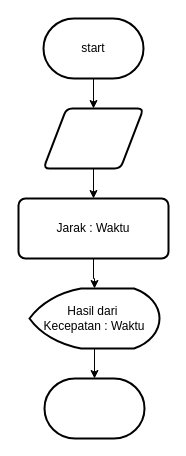
The diagram is 186 pixels wide and 456 high, and some of its shapes have lost their labels. The centre of each missing label's shape, as x and y in pixels:
"end" belongs at point (94, 408).
"Jarak dan waktu" belongs at point (93, 138).
